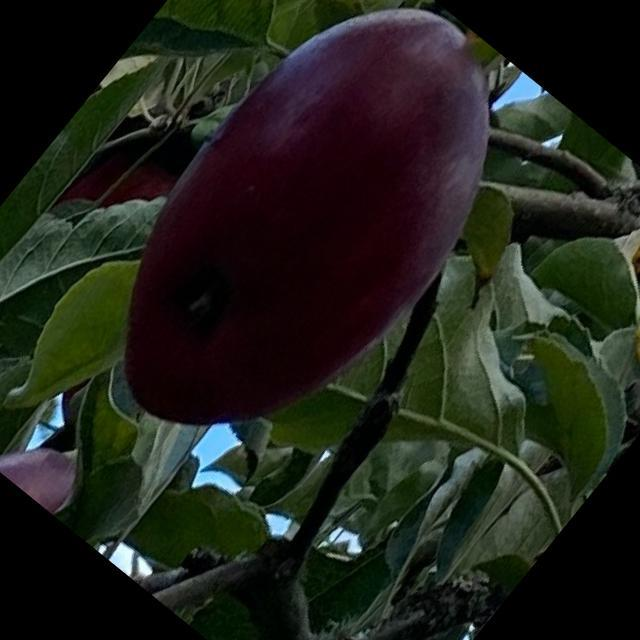100-_ripeness: (54, 0, 562, 497)
